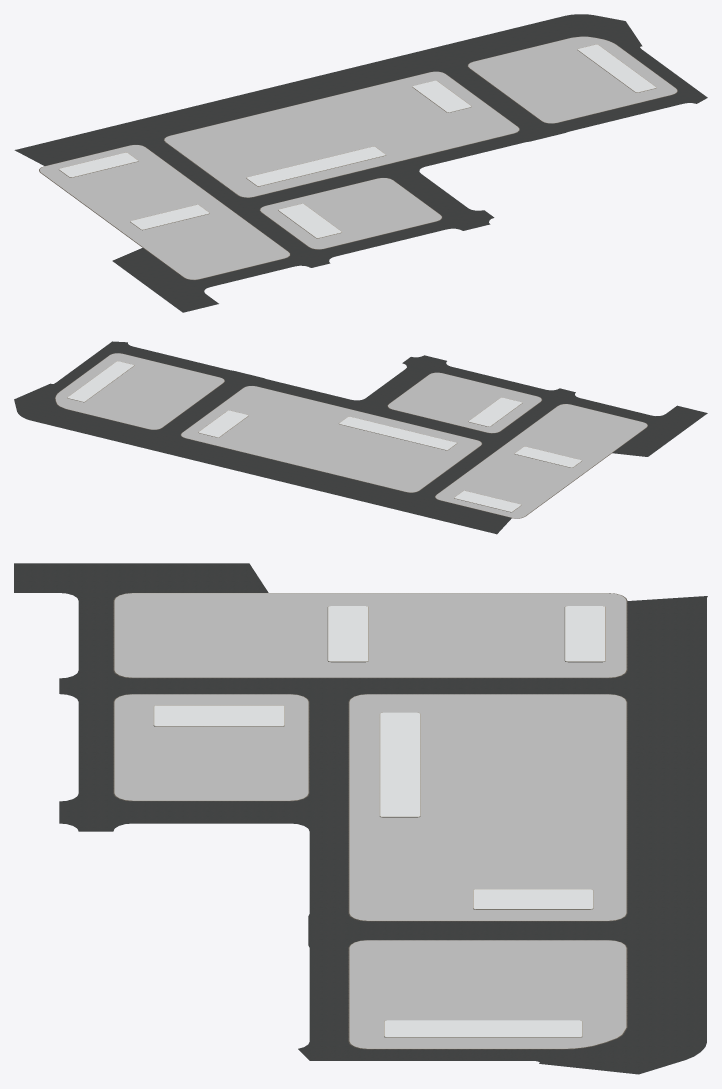
The model's file is Area_06.fbx.
The picture shows the model from 3 angles, top to bottom: view 1: azimuth 30°, elevation 25°; view 2: azimuth 150°, elevation 25°; view 3: azimuth 270°, elevation 25°; orthographic projection. The views are drawn at different scales.
Visible parts, largest first — view 1: Area_06; view 2: Area_06; view 3: Area_06.
Part boxes in pixels (x1,y1,x2,y2): Area_06: (14,14,707,312); Area_06: (14,341,707,534); Area_06: (14,563,707,1074).
Bounding box in the file's own units: 31665 × 21.84 × 18173.
